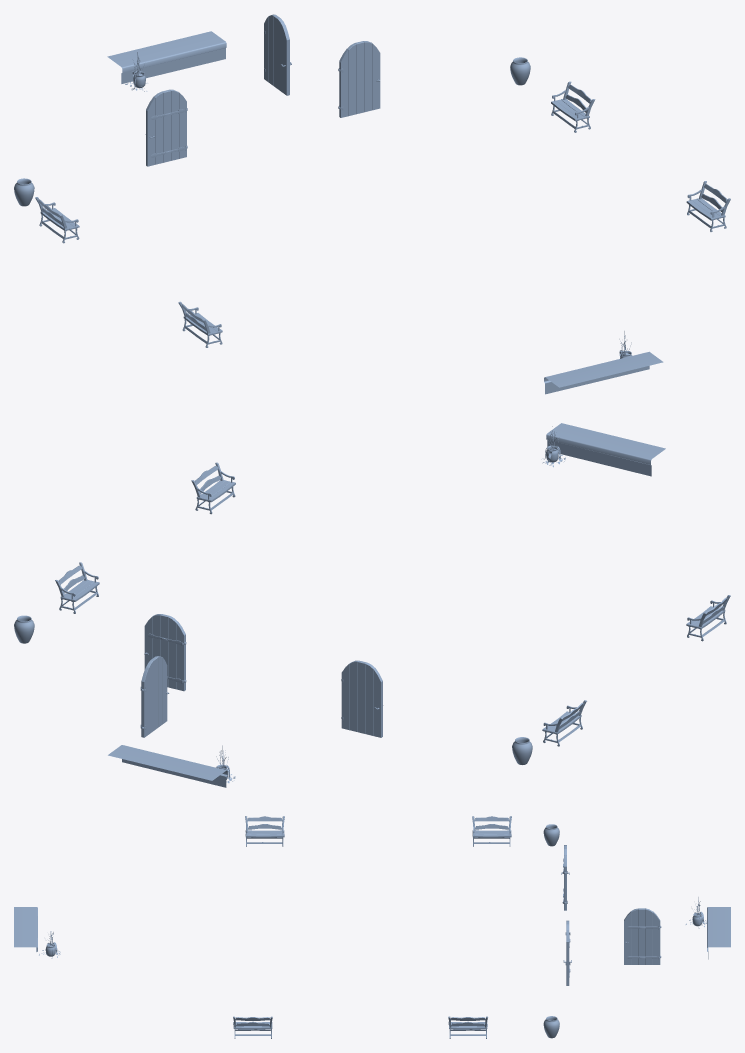
Rendered from SM_Hall_2nd_floor_assets.fbx.
The picture shows the model from 3 angles, top to bottom: view 1: azimuth 30°, elevation 25°; view 2: azimuth 150°, elevation 25°; view 3: azimuth 270°, elevation 25°; orthographic projection. The views are drawn at different scales.
Visible parts, largest first — view 1: Fireplace:Fireplace:Fireplace:Fireplace:polySurface114, Dining_table_v01:Dining_table_v01:polySurface150, Dining_table_v01:Dining_table_v01:polySurface149, Fireplace:Fireplace:Fireplace:Fireplace:polySurface20, polySurface150, Fireplace:Fireplace:Fireplace:Fireplace:polySurface104, Fireplace:Fireplace:Fireplace:Fireplace:polySurface105, Fireplace:Fireplace:Fireplace:Fireplace:polySurface100, Fireplace:Fireplace:Fireplace:Fireplace:polySurface101; view 2: Fireplace:Fireplace:Fireplace:Fireplace:polySurface20, Dining_table_v01:Dining_table_v01:polySurface149, Dining_table_v01:Dining_table_v01:polySurface150, Fireplace:Fireplace:Fireplace:Fireplace:polySurface114, polySurface150, Fireplace:Fireplace:Fireplace:Fireplace:polySurface104, Fireplace:Fireplace:Fireplace:Fireplace:polySurface105, Fireplace:Fireplace:Fireplace:Fireplace:polySurface101, Fireplace:Fireplace:Fireplace:Fireplace:polySurface100; view 3: polySurface150, Fireplace:Fireplace:Fireplace:Fireplace:polySurface114, Fireplace:Fireplace:Fireplace:Fireplace:polySurface20, Fireplace:Fireplace:Fireplace:Fireplace:polySurface101, Fireplace:Fireplace:Fireplace:Fireplace:polySurface100, Fireplace:Fireplace:Fireplace:Fireplace:polySurface104, Fireplace:Fireplace:Fireplace:Fireplace:polySurface105.
Boxes of the visible parts, x1,y1,x2,y2 form: Fireplace:Fireplace:Fireplace:Fireplace:polySurface114: [107, 31, 226, 83]; Dining_table_v01:Dining_table_v01:polySurface150: [338, 41, 380, 117]; Dining_table_v01:Dining_table_v01:polySurface149: [145, 89, 187, 166]; Fireplace:Fireplace:Fireplace:Fireplace:polySurface20: [544, 351, 663, 394]; polySurface150: [264, 14, 291, 95]; Fireplace:Fireplace:Fireplace:Fireplace:polySurface104: [686, 181, 730, 231]; Fireplace:Fireplace:Fireplace:Fireplace:polySurface105: [551, 81, 595, 132]; Fireplace:Fireplace:Fireplace:Fireplace:polySurface100: [178, 301, 222, 347]; Fireplace:Fireplace:Fireplace:Fireplace:polySurface101: [35, 197, 79, 243]; Fireplace:Fireplace:Fireplace:Fireplace:polySurface20: [546, 423, 665, 476]; Dining_table_v01:Dining_table_v01:polySurface149: [341, 660, 383, 737]; Dining_table_v01:Dining_table_v01:polySurface150: [144, 614, 186, 691]; Fireplace:Fireplace:Fireplace:Fireplace:polySurface114: [108, 745, 227, 787]; polySurface150: [140, 656, 169, 737]; Fireplace:Fireplace:Fireplace:Fireplace:polySurface104: [191, 462, 235, 514]; Fireplace:Fireplace:Fireplace:Fireplace:polySurface105: [55, 562, 99, 613]; Fireplace:Fireplace:Fireplace:Fireplace:polySurface101: [542, 700, 586, 746]; Fireplace:Fireplace:Fireplace:Fireplace:polySurface100: [686, 595, 730, 641]; polySurface150: [624, 908, 661, 964]; Fireplace:Fireplace:Fireplace:Fireplace:polySurface114: [707, 907, 730, 959]; Fireplace:Fireplace:Fireplace:Fireplace:polySurface20: [14, 907, 37, 951]; Fireplace:Fireplace:Fireplace:Fireplace:polySurface101: [472, 816, 511, 846]; Fireplace:Fireplace:Fireplace:Fireplace:polySurface100: [245, 816, 284, 846]; Fireplace:Fireplace:Fireplace:Fireplace:polySurface104: [233, 1016, 272, 1038]; Fireplace:Fireplace:Fireplace:Fireplace:polySurface105: [448, 1016, 487, 1038].
Size of the model in its own units: 1996 by 259 by 3000.
